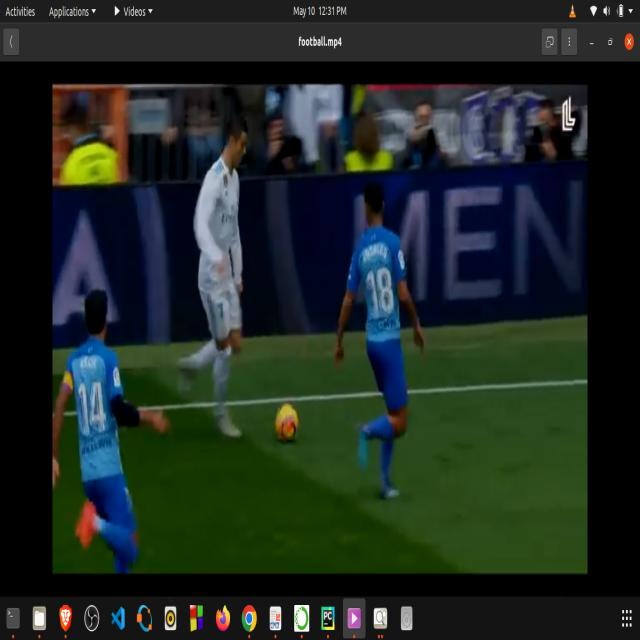Ball: (270, 396, 306, 458)
football-players: (328, 175, 430, 510), (181, 102, 264, 456), (56, 281, 154, 574)
